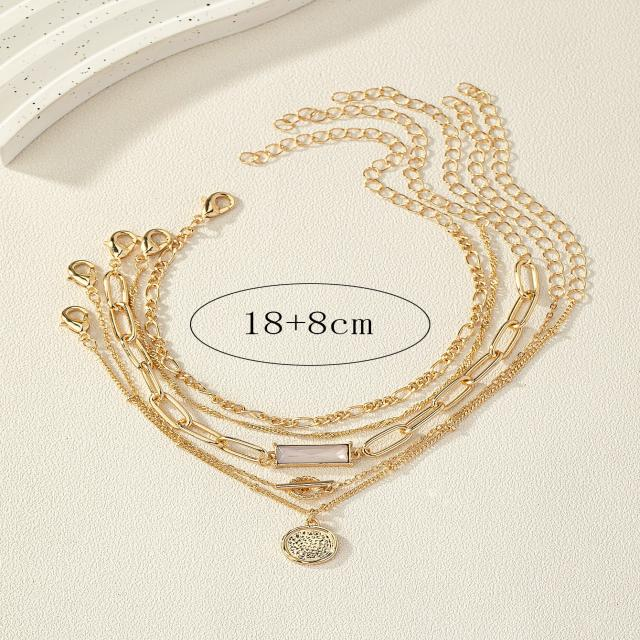bracelet: (3, 42, 640, 590)
